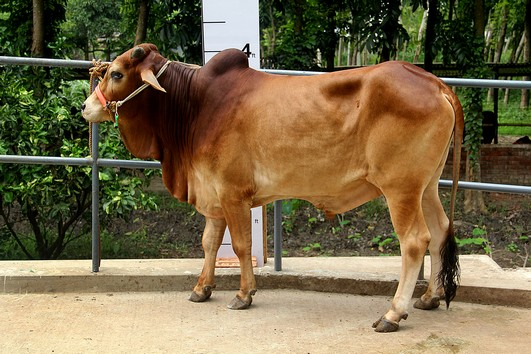cow: (78, 37, 469, 341)
